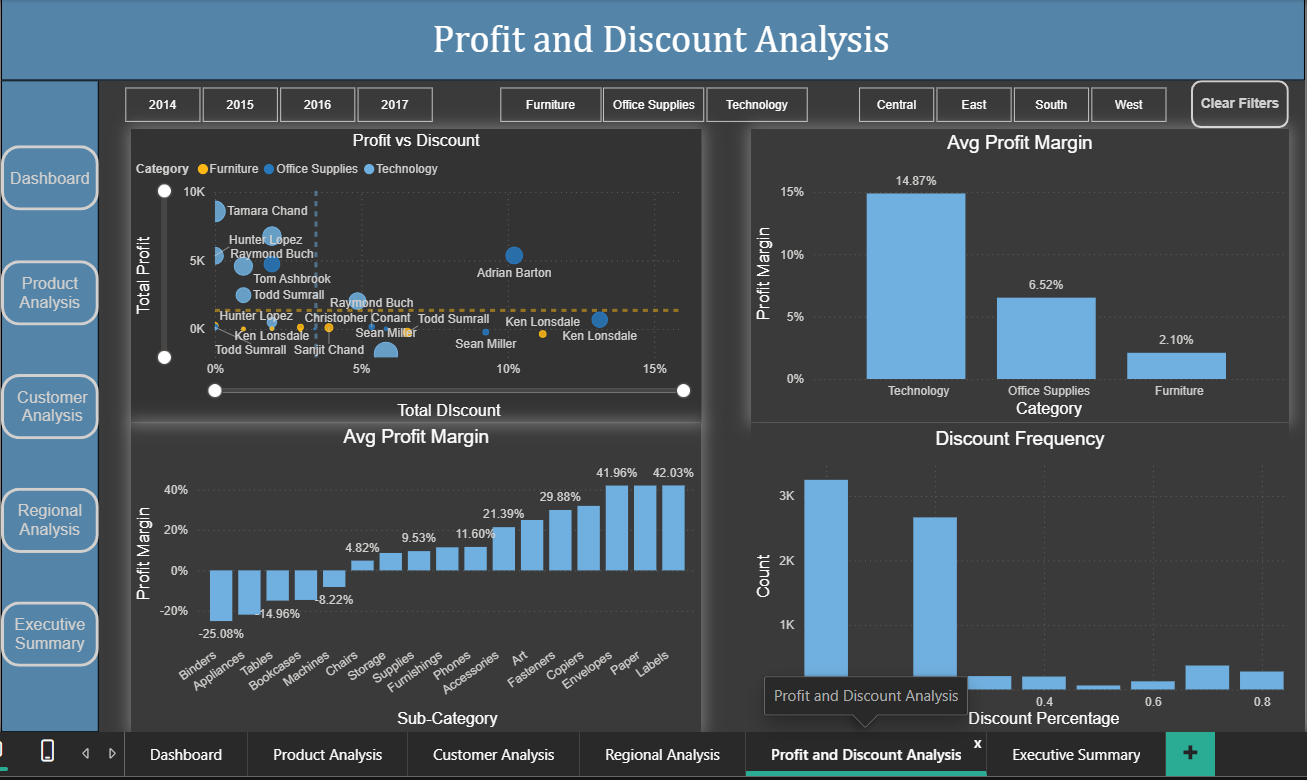

This screenshot's page, from the dashboard's own definition file:
{"tool":"powerbi","page":{"name":"Profit and Discount Analysis","canvas":[1280,720],"ordinal":4},"visuals":[{"type":"slicer","fields":{"Values":["Sample - Superstore.year"]},"box":[96,80,352,48],"z":0},{"type":"slicer","fields":{"Values":["Sample - Superstore.Category"]},"box":[464,80,352,48],"z":1000},{"type":"slicer","fields":{"Values":["Sample - Superstore.Region"]},"box":[816,80,352,48],"z":2000},{"type":"shape","box":[0,80,96,640],"z":3000},{"type":"actionButton","box":[0,144,96,64],"z":4000},{"type":"actionButton","box":[0,256,96,64],"z":5000},{"type":"actionButton","box":[0,480,96,64],"z":6000},{"type":"actionButton","box":[0,368,96,64],"z":7000},{"type":"shape","box":[0,0,1280,80],"z":8000},{"type":"actionButton","box":[1168,80,96,47],"z":9000},{"type":"textbox","box":[400,0,496,80],"z":10000},{"type":"scatterChart","title":"Profit vs Discount","fields":{"X":["Sum(Sample - Superstore.Discount)"],"Y":["Sample - Superstore.Total Profit"],"Series":["Sample - Superstore.Category"],"Category":["Sample - Superstore.Customer Name"],"Size":["Sample - Superstore.Total Sales"]},"box":[128,128,560,288],"z":14000},{"type":"columnChart","title":"Avg Profit Margin ","fields":{"Category":["Sample - Superstore.Category"],"Y":["Avg(Sample - Superstore.profit_margin)"]},"box":[736,128,528,288],"z":14001},{"type":"columnChart","title":"Avg Profit Margin ","fields":{"Y":["Avg(Sample - Superstore.profit_margin)"],"Category":["Sample - Superstore.Sub-Category"]},"box":[128,416,560,304],"z":14002},{"type":"columnChart","title":"Discount Frequency","fields":{"Category":["Sample - Superstore.Discount (bins)"],"Y":["CountNonNull(Sample - Superstore.Discount)"]},"box":[736,416,528,304],"z":14003},{"type":"actionButton","box":[0,592,96,64],"z":14004}]}

Visuals, with their boxes on the page's 1280x720 design canvas (x1, y1, x2, y2). These are canvas units, not pixel positions in the 1307x780 screenshot, which may show the page scaled, cropped or inside an application window:
slicer - Sample - Superstore.year: {"left": 96, "top": 80, "right": 448, "bottom": 128}
slicer - Sample - Superstore.Category: {"left": 464, "top": 80, "right": 816, "bottom": 128}
slicer - Sample - Superstore.Region: {"left": 816, "top": 80, "right": 1168, "bottom": 128}
shape: {"left": 0, "top": 80, "right": 96, "bottom": 720}
actionButton: {"left": 0, "top": 144, "right": 96, "bottom": 208}
actionButton: {"left": 0, "top": 256, "right": 96, "bottom": 320}
actionButton: {"left": 0, "top": 480, "right": 96, "bottom": 544}
actionButton: {"left": 0, "top": 368, "right": 96, "bottom": 432}
shape: {"left": 0, "top": 0, "right": 1280, "bottom": 80}
actionButton: {"left": 1168, "top": 80, "right": 1264, "bottom": 127}
textbox: {"left": 400, "top": 0, "right": 896, "bottom": 80}
"Profit vs Discount" scatterChart: {"left": 128, "top": 128, "right": 688, "bottom": 416}
"Avg Profit Margin " columnChart: {"left": 736, "top": 128, "right": 1264, "bottom": 416}
"Avg Profit Margin " columnChart: {"left": 128, "top": 416, "right": 688, "bottom": 720}
"Discount Frequency" columnChart: {"left": 736, "top": 416, "right": 1264, "bottom": 720}
actionButton: {"left": 0, "top": 592, "right": 96, "bottom": 656}
